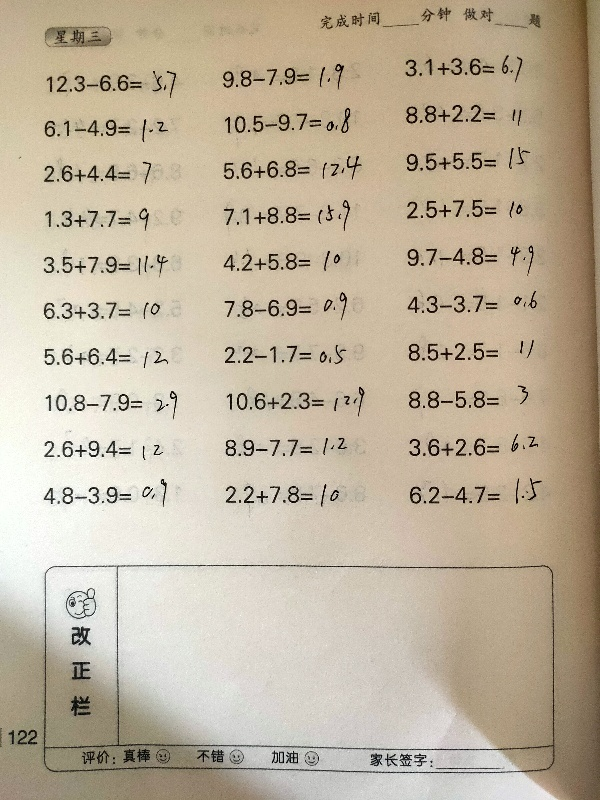equation: (38, 473, 189, 525), (389, 44, 537, 96), (24, 60, 185, 106), (400, 472, 556, 519), (34, 335, 185, 379), (210, 152, 379, 191), (215, 430, 376, 470), (399, 234, 547, 277), (401, 380, 548, 423), (217, 337, 374, 377), (220, 385, 381, 424), (36, 387, 189, 428), (34, 244, 185, 285), (401, 429, 556, 468), (210, 197, 368, 235), (214, 289, 359, 330), (401, 336, 549, 376), (401, 290, 556, 328), (34, 289, 176, 329), (211, 62, 356, 101), (30, 114, 182, 151), (393, 143, 541, 180), (28, 199, 172, 237), (391, 98, 541, 133), (397, 192, 542, 227), (37, 434, 183, 468), (216, 247, 354, 281), (28, 158, 164, 191), (218, 478, 356, 510), (215, 109, 355, 140)
